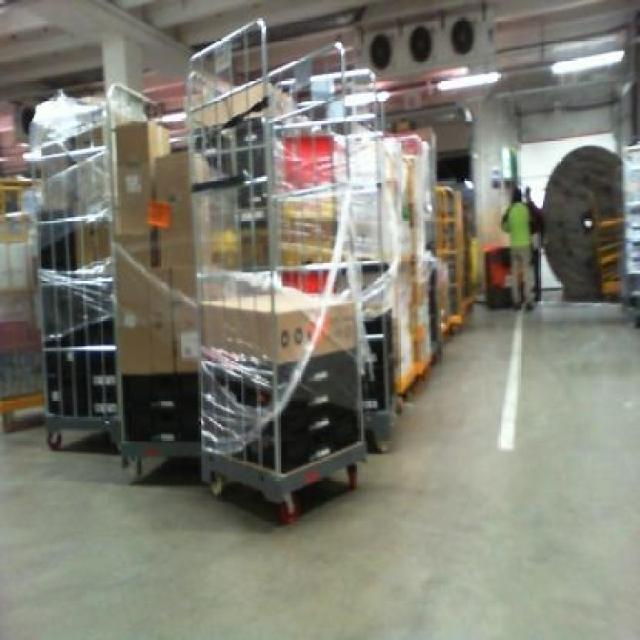floor: (0, 298, 637, 637)
pallets: (186, 18, 380, 517)
